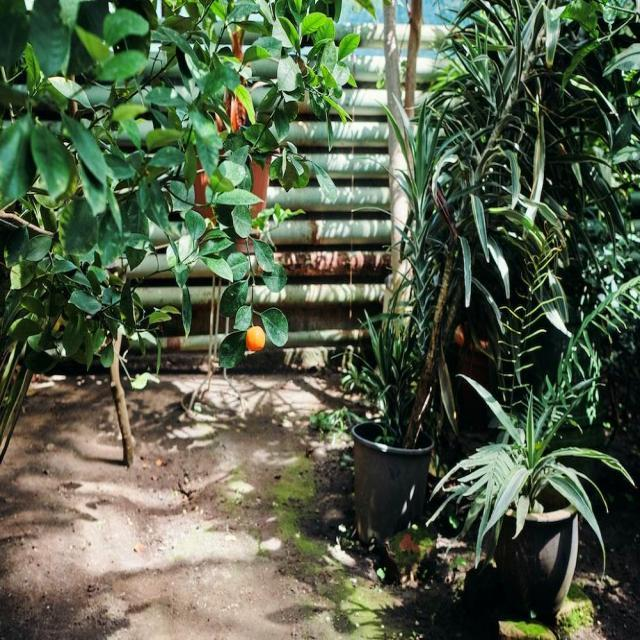Jeruk Sudah Matang: (245, 326, 267, 353)
